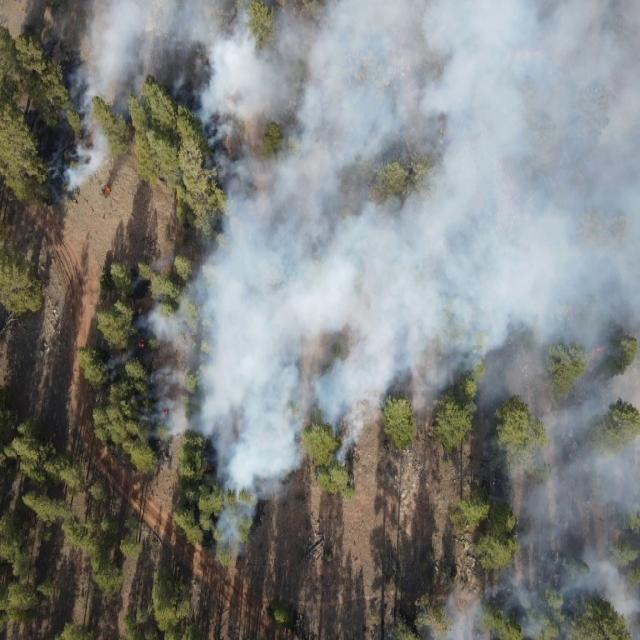fire: (504, 48, 545, 62), (584, 344, 610, 362), (162, 407, 172, 421), (138, 340, 147, 351), (103, 185, 111, 197)
smoke: (201, 136, 640, 425), (33, 0, 640, 136), (468, 427, 640, 640), (130, 244, 200, 441), (202, 427, 306, 482), (210, 484, 288, 554), (44, 135, 114, 200), (422, 580, 469, 640), (337, 424, 368, 470)
